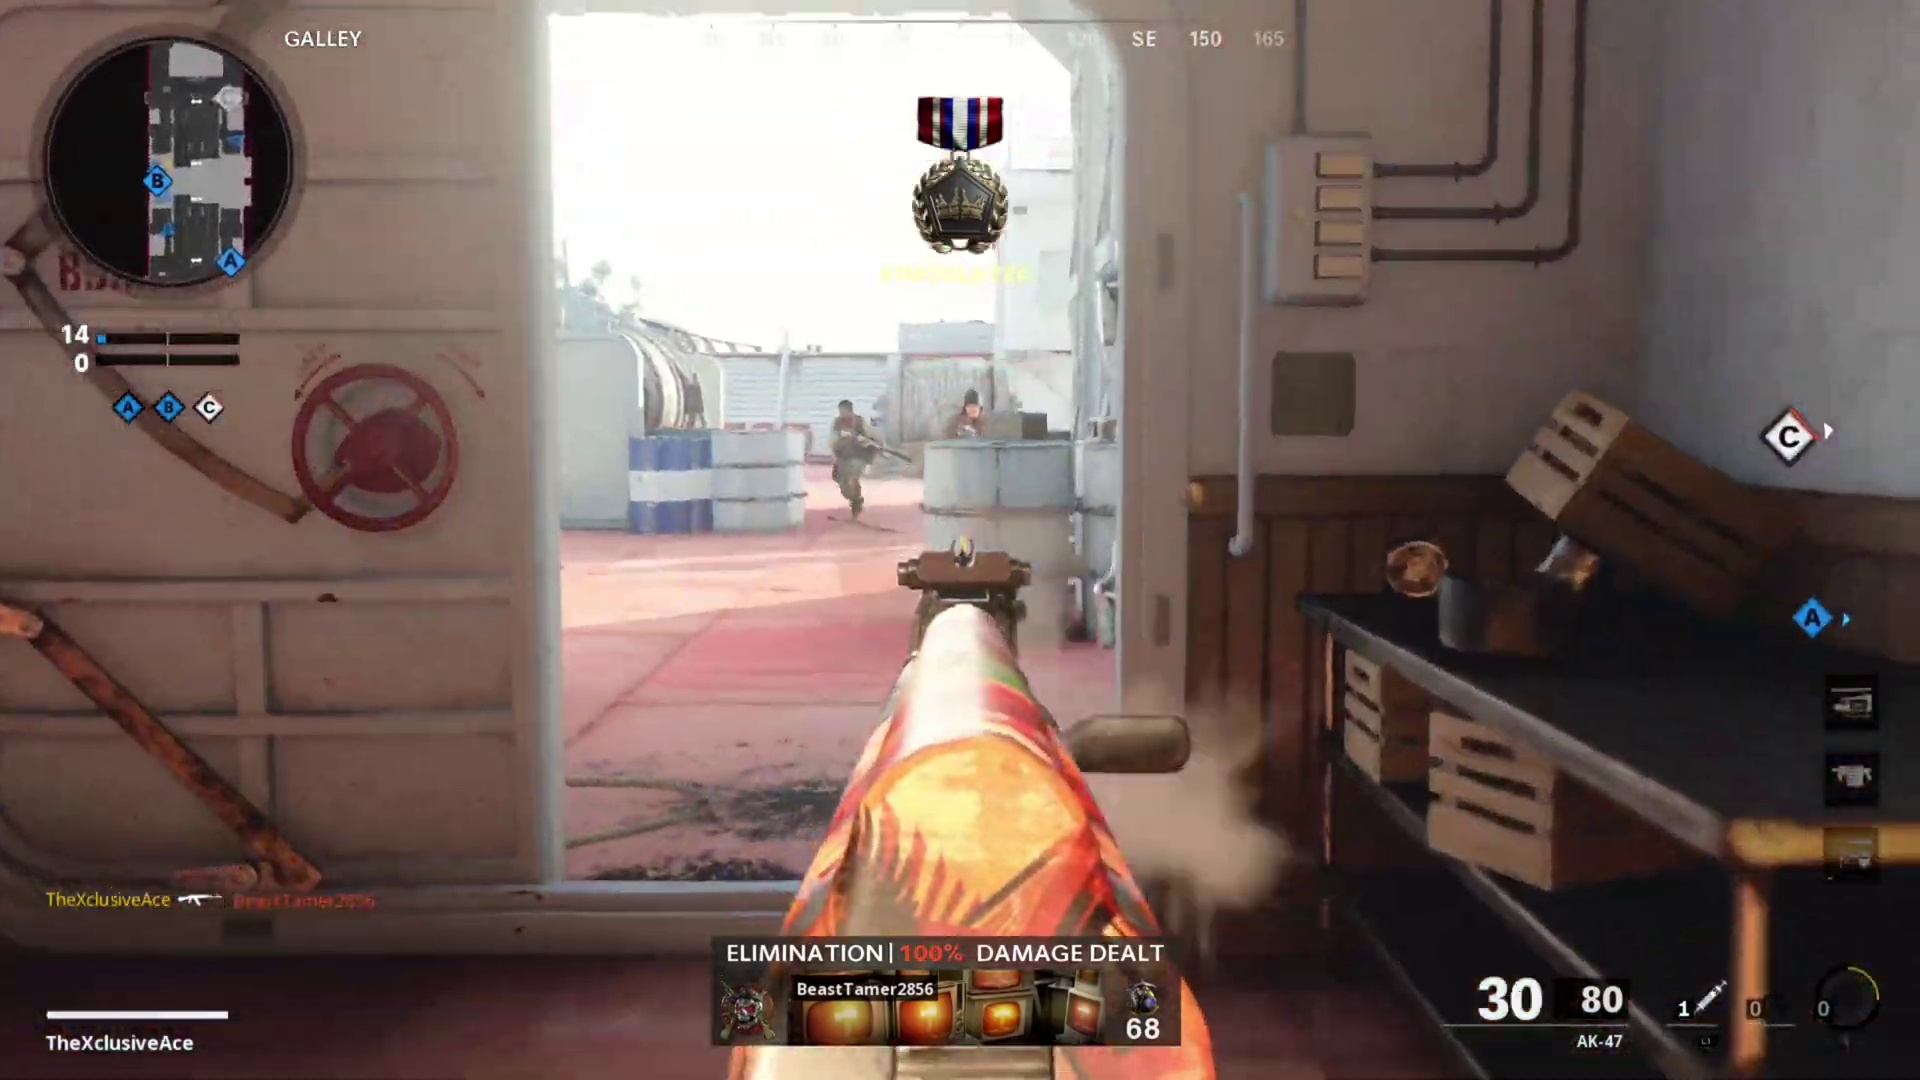head: (957, 385, 988, 426), (833, 396, 857, 426)
person: (830, 397, 896, 519), (944, 387, 985, 436)
